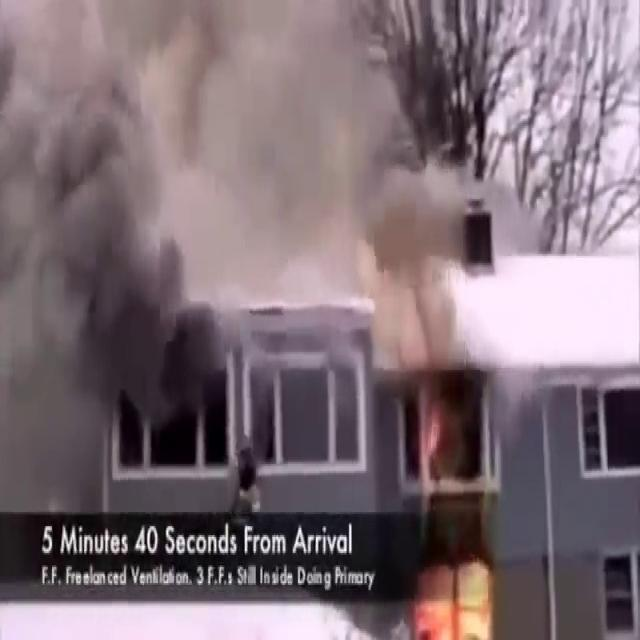Fire: (407, 552, 498, 640)
Smoke: (132, 0, 463, 357), (0, 0, 190, 508)
